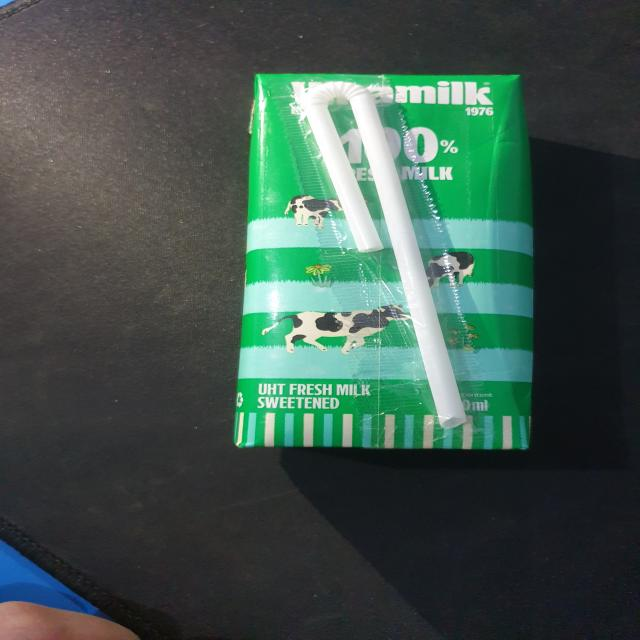Vina: (236, 73, 549, 454)
